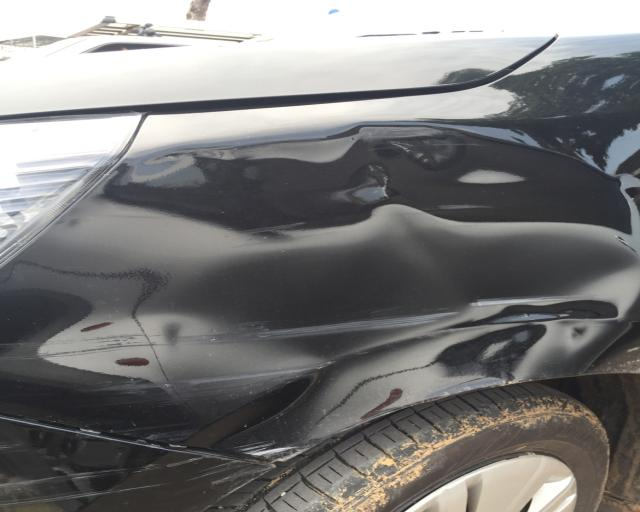dent: (96, 123, 640, 428)
scratch: (0, 454, 276, 512), (0, 328, 127, 362), (222, 439, 319, 463), (87, 376, 167, 405)
